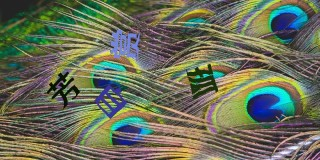孤: (185, 64, 218, 99)
自: (94, 85, 126, 118)
芳: (46, 71, 80, 107)
赏: (108, 28, 142, 61)
